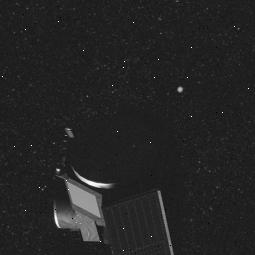cheops: (54, 114, 191, 255)
